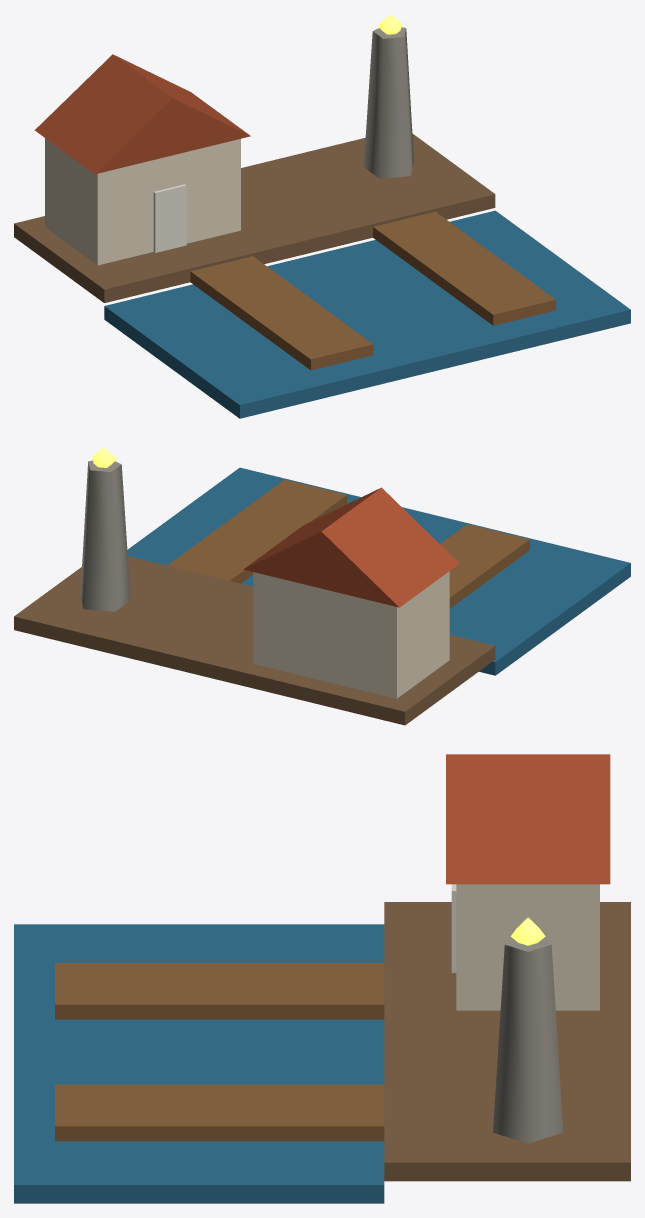
File: bld_special_port_a02_lod2.glb
3 views of the same model, one above another, from view 1: azimuth 30°, elevation 25°; view 2: azimuth 150°, elevation 25°; view 3: azimuth 270°, elevation 25° (orthographic). The views are drawn at different scales.
Parts seen in each view (by area): view 1: body; view 2: body; view 3: body.
Boxes of the visible parts, <box> form: body: <box>14,14,630,418</box>; body: <box>14,447,630,725</box>; body: <box>14,754,630,1203</box>.
Size of the model in its own units: 15 by 6.75 by 15.
